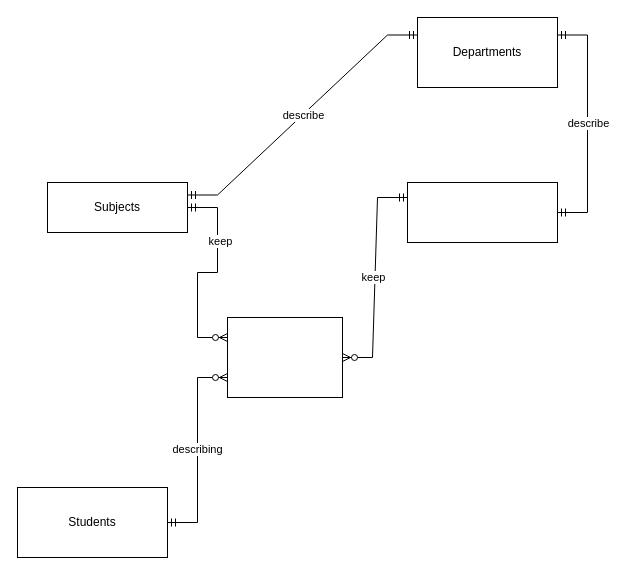
This 626x575 diagram has some shape labels left out. The centre of each missing label's shape, as x and y in pixels:
Reviews: point 284,357
Teachers: point 482,212
